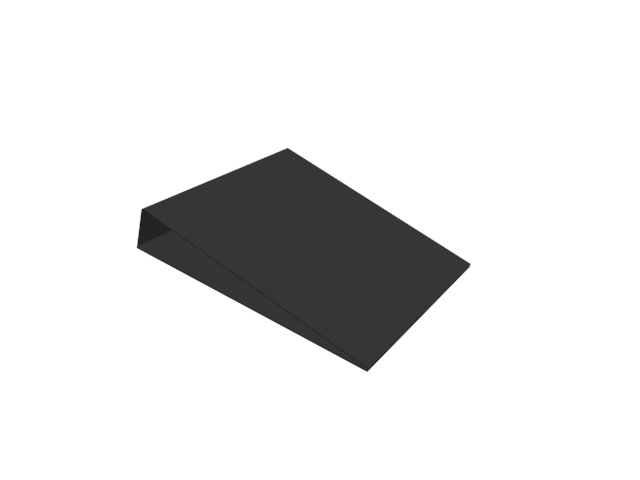ring_binder: (137, 145, 472, 376)
